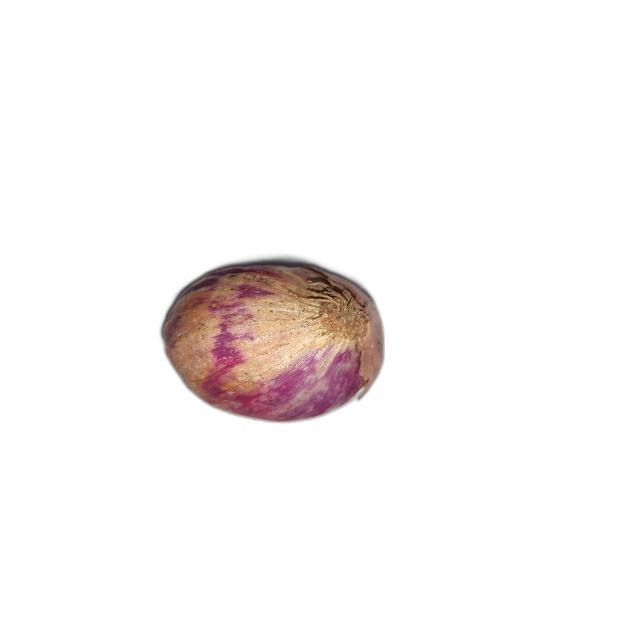onion: (160, 259, 386, 423)
